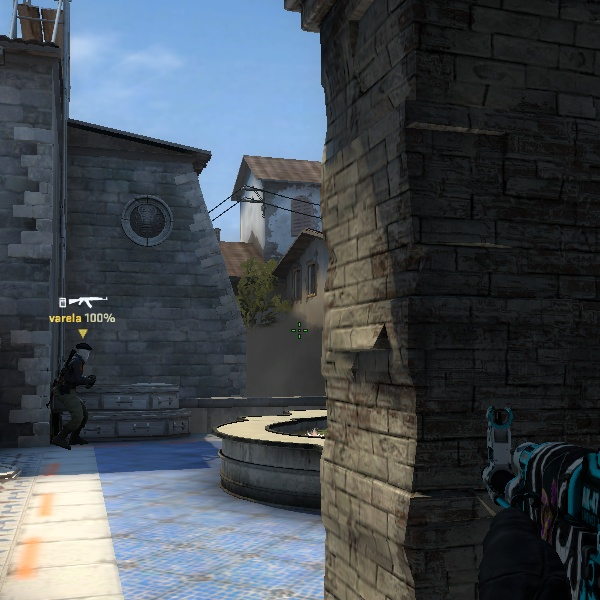t_body: (46, 339, 106, 450)
